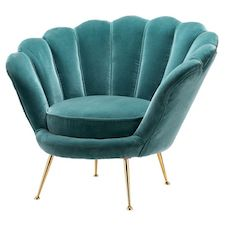chair: (2, 16, 212, 198)
